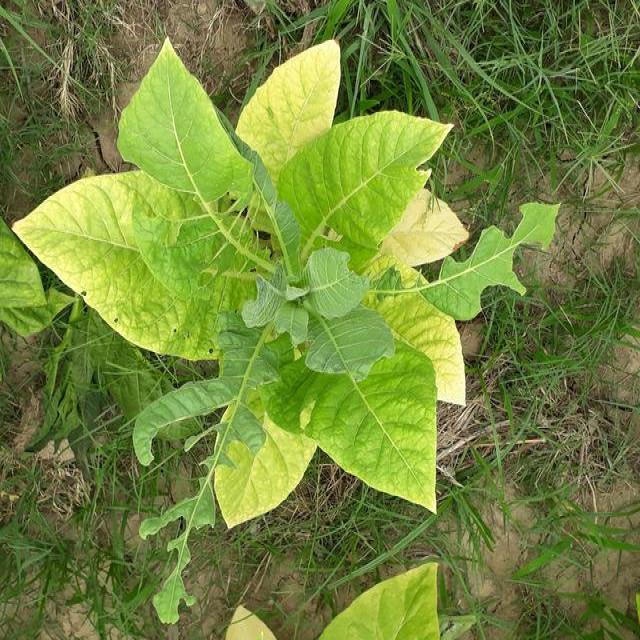crop: (28, 47, 558, 583), (325, 577, 446, 640)
